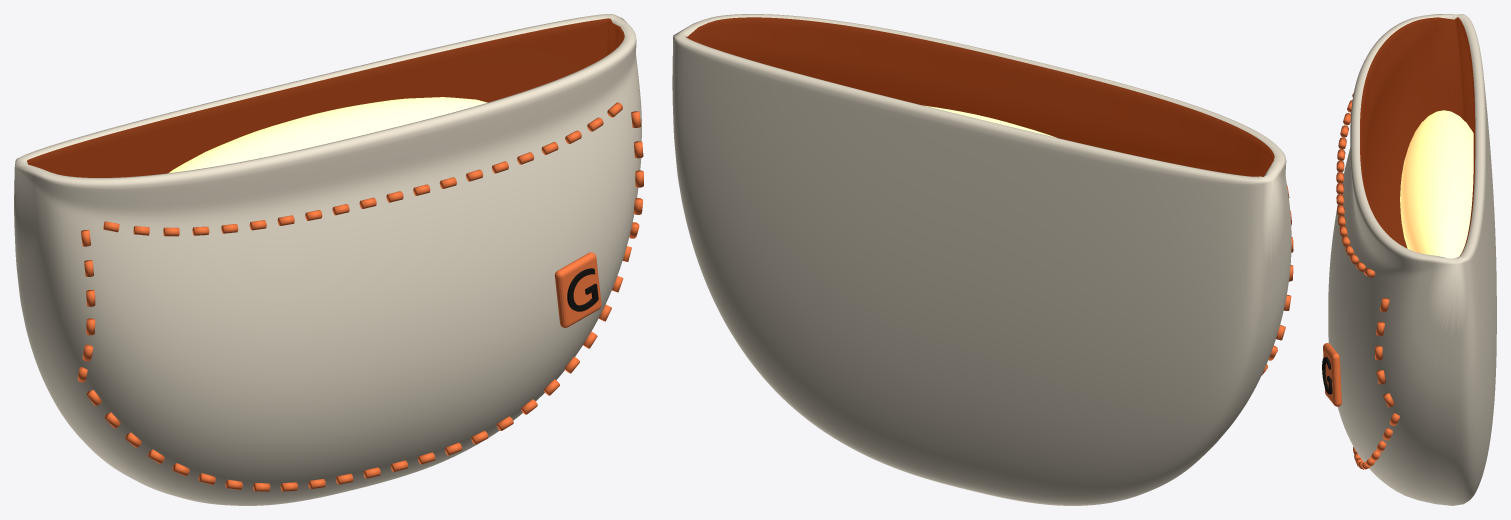
Rendered from kantong.glb.
The picture shows the model from 3 angles, left to right: view 1: azimuth 30°, elevation 25°; view 2: azimuth 150°, elevation 25°; view 3: azimuth 270°, elevation 25°; orthographic projection. The views are drawn at different scales.
Visible parts, largest first — view 1: Kantong, Mulut_Glow, Jahitan_U, Jahitan_Kelim, Tag_G; view 2: Kantong; view 3: Kantong, Mulut_Glow, Jahitan_Kelim, Jahitan_U, Tag_G.
Boxes of the visible parts, left/top/right/bottom form: Kantong: left=14, top=14, right=641, bottom=505; Mulut_Glow: left=168, top=97, right=487, bottom=173; Jahitan_U: left=77, top=111, right=643, bottom=491; Jahitan_Kelim: left=103, top=102, right=622, bottom=236; Tag_G: left=554, top=252, right=601, bottom=327; Kantong: left=672, top=14, right=1291, bottom=505; Kantong: left=1328, top=14, right=1496, bottom=505; Mulut_Glow: left=1400, top=110, right=1473, bottom=258; Jahitan_Kelim: left=1336, top=93, right=1375, bottom=277; Jahitan_U: left=1353, top=298, right=1399, bottom=469; Tag_G: left=1322, top=343, right=1341, bottom=406.
Bounding box in the file's own units: 1.7 × 1.04 × 0.5007.
